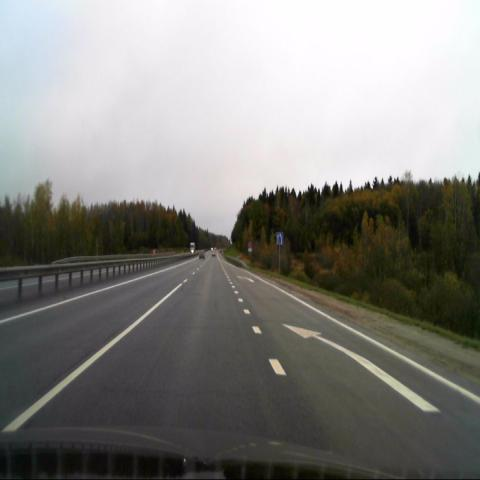5_15_5: (276, 232, 282, 244)
